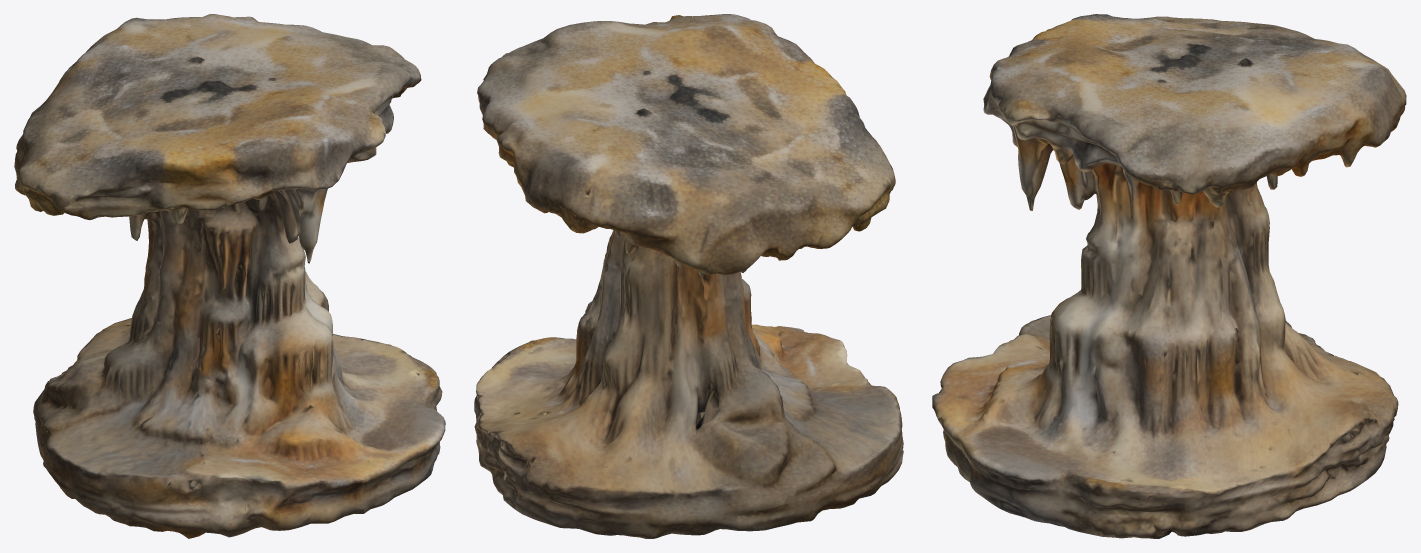
The picture shows the model from 3 angles, left to right: view 1: azimuth 30°, elevation 25°; view 2: azimuth 150°, elevation 25°; view 3: azimuth 270°, elevation 25°; orthographic projection. The views are drawn at different scales.
Visible parts, largest first — view 1: world; view 2: world; view 3: world.
Part boxes in pixels (bbox=[...]): world: bbox=[14, 14, 445, 538]; world: bbox=[474, 14, 903, 538]; world: bbox=[932, 14, 1406, 538].
Size of the model in its own units: 3.37 by 3.26 by 3.42.
1 material, 1 textured.
